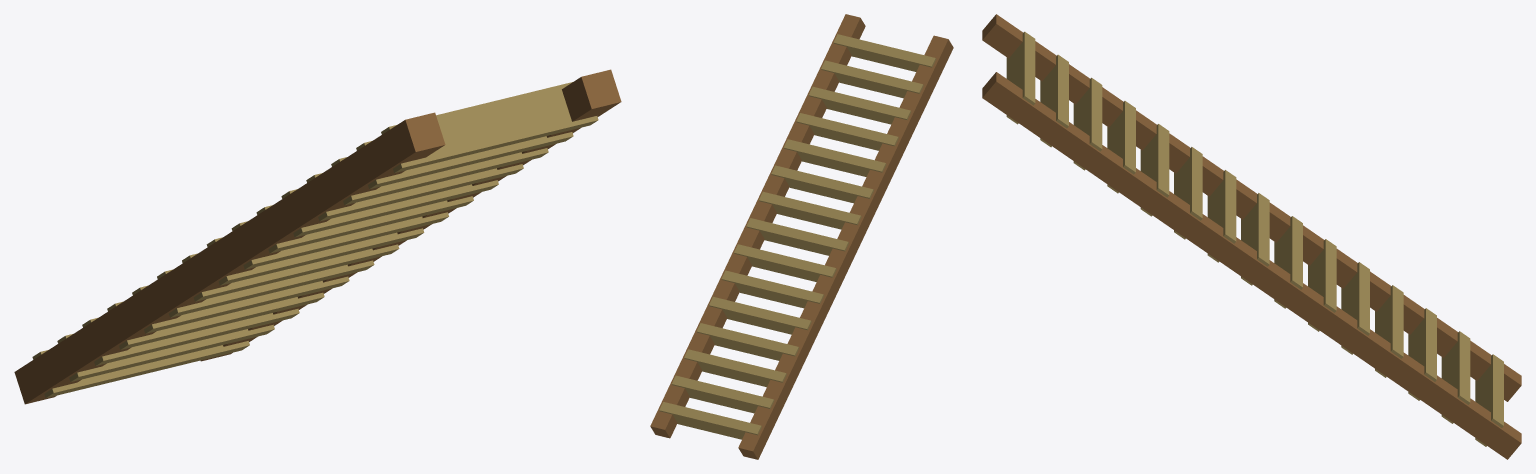
File: ladder_3.8.glb
The picture shows the model from 3 angles, left to right: view 1: azimuth 30°, elevation 25°; view 2: azimuth 150°, elevation 25°; view 3: azimuth 270°, elevation 25°; orthographic projection. The views are drawn at different scales.
Visible parts, largest first — view 1: part_0, part_16, part_1, part_9, part_14, part_4, part_11, part_12, part_13, part_15, part_6, part_10 (+5 smaller); view 2: part_0, part_1, part_14, part_6, part_9, part_11, part_4, part_8, part_12, part_15, part_7, part_10 (+5 smaller); view 3: part_1, part_0, part_10, part_14, part_12, part_3, part_16, part_7, part_5, part_9, part_11, part_13 (+5 smaller).
Boxes of the visible parts, x1,y1,x2,y2 form: part_0: (14, 112, 445, 404); part_16: (381, 82, 598, 173); part_1: (200, 69, 621, 361); part_9: (206, 228, 424, 285); part_14: (331, 148, 548, 205); part_4: (82, 308, 299, 365); part_11: (256, 196, 473, 253); part_12: (281, 180, 498, 237); part_13: (306, 164, 523, 221); part_15: (356, 132, 573, 189); part_6: (132, 276, 349, 333); part_10: (231, 212, 448, 269); part_0: (738, 35, 953, 459); part_1: (650, 14, 865, 438); part_14: (808, 86, 911, 124); part_6: (709, 296, 811, 334); part_9: (746, 218, 848, 255); part_11: (771, 165, 873, 203); part_4: (684, 349, 786, 387); part_8: (734, 244, 836, 281); part_12: (783, 139, 886, 176); part_15: (821, 60, 923, 98); part_7: (721, 270, 824, 308); part_10: (759, 191, 861, 229); part_1: (982, 72, 1521, 459); part_0: (982, 14, 1521, 401); part_10: (1207, 170, 1236, 262); part_14: (1073, 77, 1102, 170); part_12: (1140, 124, 1169, 216); part_3: (1441, 331, 1470, 423); part_16: (1006, 31, 1035, 124); part_7: (1308, 239, 1336, 331); part_5: (1375, 285, 1403, 377); part_9: (1241, 193, 1269, 285); part_11: (1174, 147, 1202, 239); part_13: (1107, 101, 1135, 193).
Bounding box in the file's own units: 1.52 × 3.98 × 5.13.
